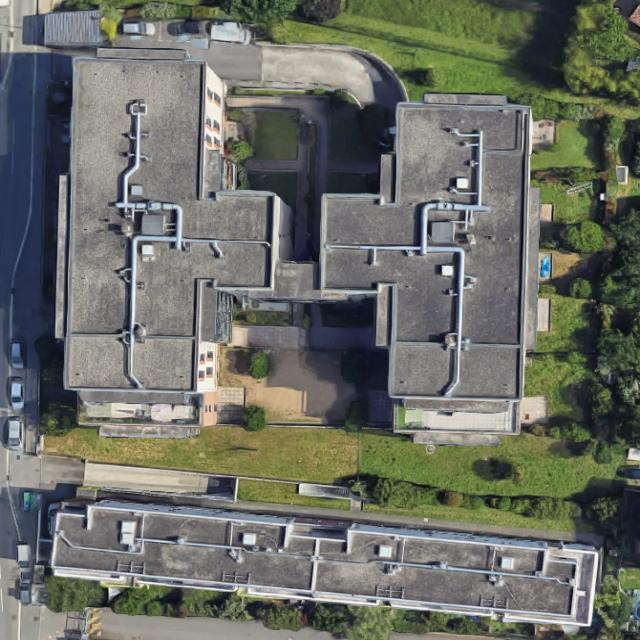immeuble: (57, 60, 292, 402), (48, 495, 598, 627), (318, 94, 537, 409)
